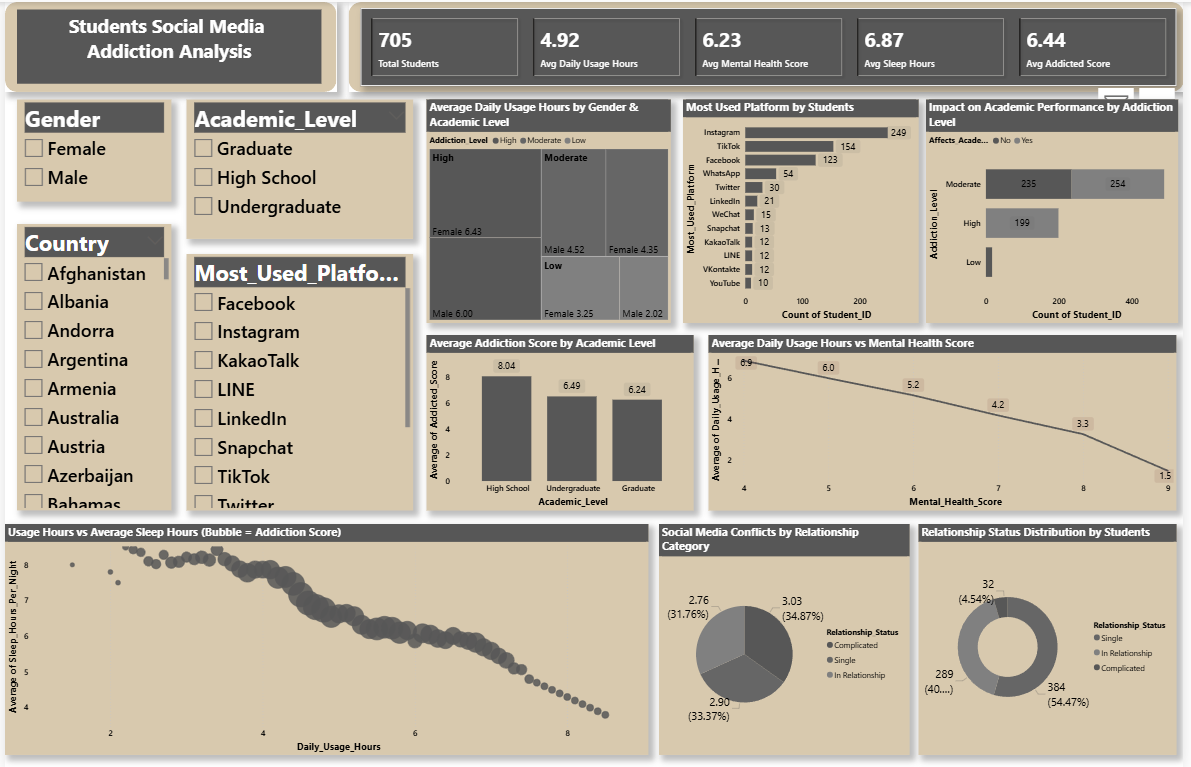

Layout of this report page (visuals, bound fields, positions):
{"tool":"powerbi","page":{"name":"Students Social Media Addiction Analysis","canvas":[2000,1300],"ordinal":0},"visuals":[{"type":"shape","box":[583,0,1418,152.7],"z":0},{"type":"cardVisual","fields":{"Data":["Students.Total Students","Students.Avg Daily Usage Hours","Students.Avg Mental Health Score","Students.Avg Sleep Hours","Students.Avg Addicted Score"]},"box":[603.3,10.2,1384.9,132.4],"z":1000},{"type":"shape","box":[0,0,562.6,152.7],"z":2000},{"type":"textbox","box":[20.2,13.5,516.4,125.7],"z":3000},{"type":"treemap","title":"Average Daily Usage Hours by Gender & Academic Level","fields":{"Group":["Students.Addiction_Level"],"Values":["Avg(Students.Daily_Usage_Hours)"],"Details":["Students.Gender"]},"box":[715.4,165.5,415,379.3],"z":4000},{"type":"barChart","title":"Most Used Platform by Students","fields":{"Category":["Students.Most_Used_Platform"],"Y":["CountNonNull(Students.Student_ID)"]},"box":[1150.7,165.5,399.7,379.3],"z":5000},{"type":"barChart","title":"Impact on Academic Performance by Addiction Level","fields":{"Y":["CountNonNull(Students.Student_ID)"],"Category":["Students.Addiction_Level"],"Series":["Students.Affects_Academic_Performance"]},"box":[1563.1,165.5,427.7,379.3],"z":6000},{"type":"columnChart","title":"Average Addiction Score by Academic Level","fields":{"Category":["Students.Academic_Level"],"Y":["Avg(Students.Addicted_Score)"]},"box":[715.4,565.2,453.1,297.9],"z":7000},{"type":"lineChart","title":"Average Daily Usage Hours vs Mental Health Score","fields":{"Y":["Avg(Students.Daily_Usage_Hours)"],"Category":["Students.Mental_Health_Score"]},"box":[1194,565.2,794.3,297.9],"z":8000},{"type":"scatterChart","title":"Usage Hours vs Average Sleep Hours (Bubble = Addiction Score)","fields":{"Y":["Avg(Students.Sleep_Hours_Per_Night)"],"X":["Students.Daily_Usage_Hours"],"Size":["Sum(Students.Addicted_Score)"]},"box":[0,885.9,1092.1,392],"z":9000},{"type":"pieChart","title":"Social Media Conflicts by Relationship Category","fields":{"Category":["Students.Relationship_Status"],"Y":["Avg(Students.Conflicts_Over_Social_Media)"]},"box":[1109.9,885.9,425.1,392],"z":10000},{"type":"donutChart","title":"Relationship Status Distribution by Students","fields":{"Category":["Students.Relationship_Status"],"Y":["CountNonNull(Students.Student_ID)"]},"box":[1550.4,885.9,437.9,392],"z":11000},{"type":"slicer","fields":{"Values":["Students.Gender"]},"box":[20.4,165.5,262.2,173.1],"z":12000},{"type":"slicer","fields":{"Values":["Students.Academic_Level"]},"box":[308,165.5,384.4,236.8],"z":13000},{"type":"slicer","fields":{"Values":["Students.Country"]},"box":[20.4,376.8,262.2,486.2],"z":14000},{"type":"slicer","fields":{"Values":["Students.Most_Used_Platform"]},"box":[308,427.7,384.4,435.3],"z":15000}]}

Visuals, with their boxes in screenshot pixels (x1, y1, x2, y2), scaled from the page's 2000x1300 canvas onto the 1191x767 screenshot:
shape: bbox=[347, 0, 1190, 90]
cardVisual - Students.Total Students x Students.Avg Daily Usage Hours: bbox=[359, 6, 1184, 84]
shape: bbox=[0, 0, 335, 90]
textbox: bbox=[12, 8, 320, 82]
"Average Daily Usage Hours by Gender & Academic Level" treemap: bbox=[426, 98, 673, 321]
"Most Used Platform by Students" barChart: bbox=[685, 98, 923, 321]
"Impact on Academic Performance by Addiction Level" barChart: bbox=[931, 98, 1186, 321]
"Average Addiction Score by Academic Level" columnChart: bbox=[426, 333, 696, 509]
"Average Daily Usage Hours vs Mental Health Score" lineChart: bbox=[711, 333, 1184, 509]
"Usage Hours vs Average Sleep Hours (Bubble = Addiction Score)" scatterChart: bbox=[0, 523, 650, 754]
"Social Media Conflicts by Relationship Category" pieChart: bbox=[661, 523, 914, 754]
"Relationship Status Distribution by Students" donutChart: bbox=[923, 523, 1184, 754]
slicer - Students.Gender: bbox=[12, 98, 168, 200]
slicer - Students.Academic_Level: bbox=[183, 98, 412, 237]
slicer - Students.Country: bbox=[12, 222, 168, 509]
slicer - Students.Most_Used_Platform: bbox=[183, 252, 412, 509]
